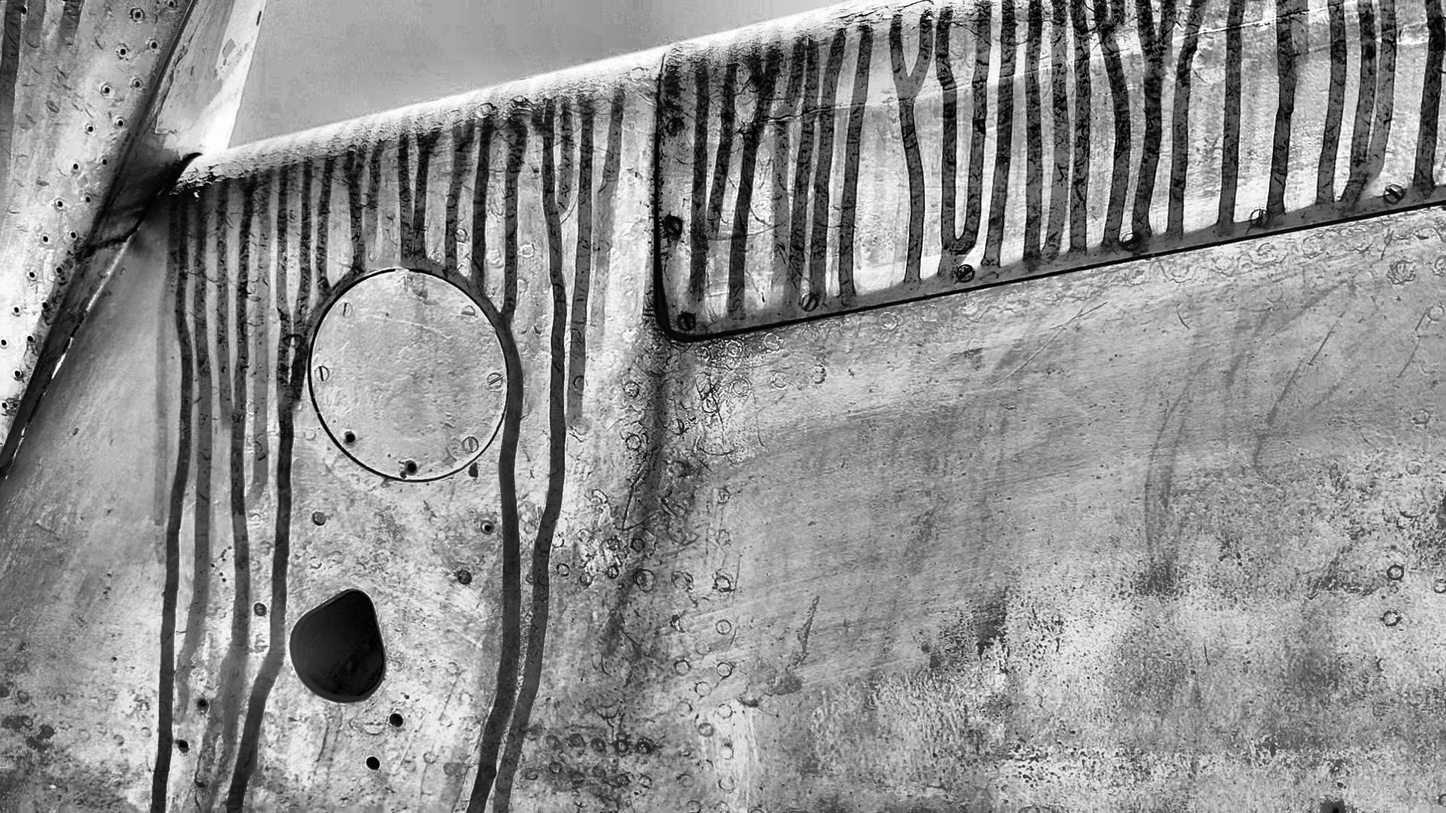missing-head: (343, 431, 358, 448), (116, 42, 130, 58), (131, 8, 146, 22), (407, 461, 420, 476), (131, 79, 143, 89), (483, 523, 493, 534), (149, 40, 159, 50), (116, 117, 125, 128), (41, 234, 50, 245), (27, 269, 36, 280), (41, 300, 50, 311), (55, 265, 64, 276), (103, 85, 112, 95), (56, 199, 65, 209), (0, 339, 10, 348), (25, 335, 35, 344), (166, 0, 175, 10), (85, 193, 92, 205), (13, 370, 21, 380), (102, 156, 109, 167), (70, 231, 78, 240), (72, 162, 79, 172), (13, 306, 21, 314), (1, 402, 8, 410), (88, 125, 94, 134)
